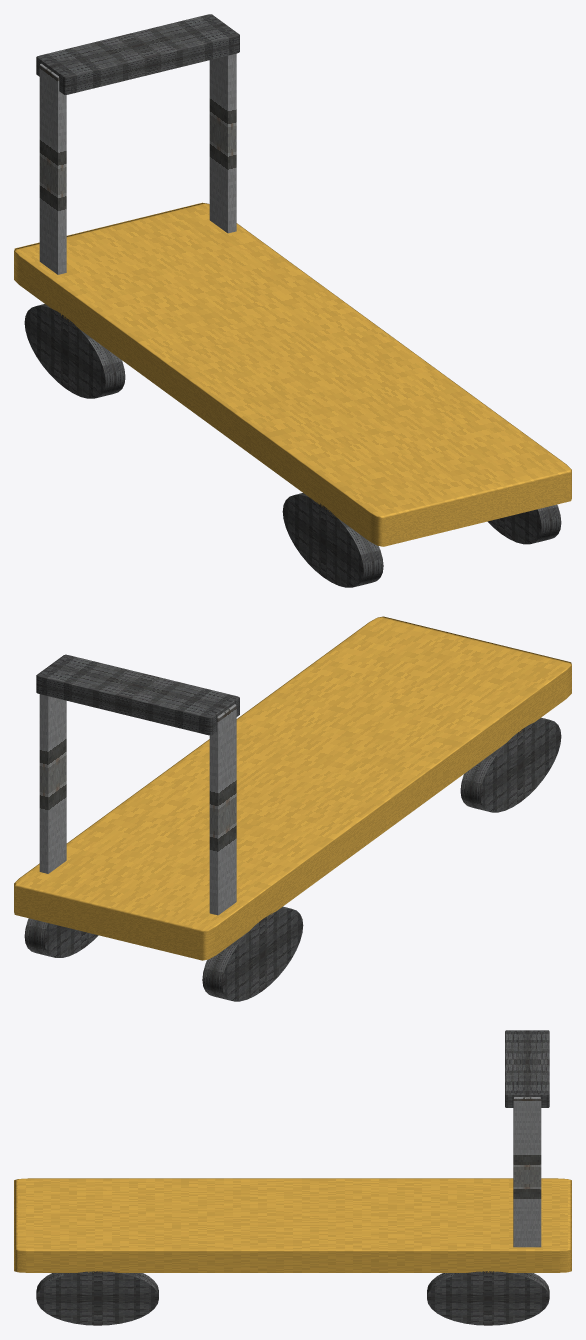
Rendered from stretcher-cart.glb.
3 views of the same model, one above another, from view 1: azimuth 30°, elevation 25°; view 2: azimuth 150°, elevation 25°; view 3: azimuth 270°, elevation 25° (orthographic). The views are drawn at different scales.
Visible parts, largest first — view 1: deck, caster (×3), upright (×2), handle; view 2: deck, caster (×3), upright (×2), handle; view 3: deck, caster (×2), upright, handle.
Part boxes in pixels (bbox=[...]): deck: bbox=[14, 202, 571, 546]; caster (×3): bbox=[24, 304, 561, 587]; upright (×2): bbox=[39, 53, 236, 274]; handle: bbox=[36, 14, 239, 94]; deck: bbox=[14, 616, 571, 960]; caster (×3): bbox=[24, 717, 561, 1001]; upright (×2): bbox=[39, 694, 236, 915]; handle: bbox=[36, 654, 239, 735]; deck: bbox=[14, 1178, 571, 1272]; caster (×2): bbox=[36, 1271, 549, 1325]; upright: bbox=[513, 1097, 541, 1247]; handle: bbox=[505, 1030, 549, 1107].
Size of the model in its own units: 0.6 by 0.87 by 1.94.
3 materials, 3 textured.
